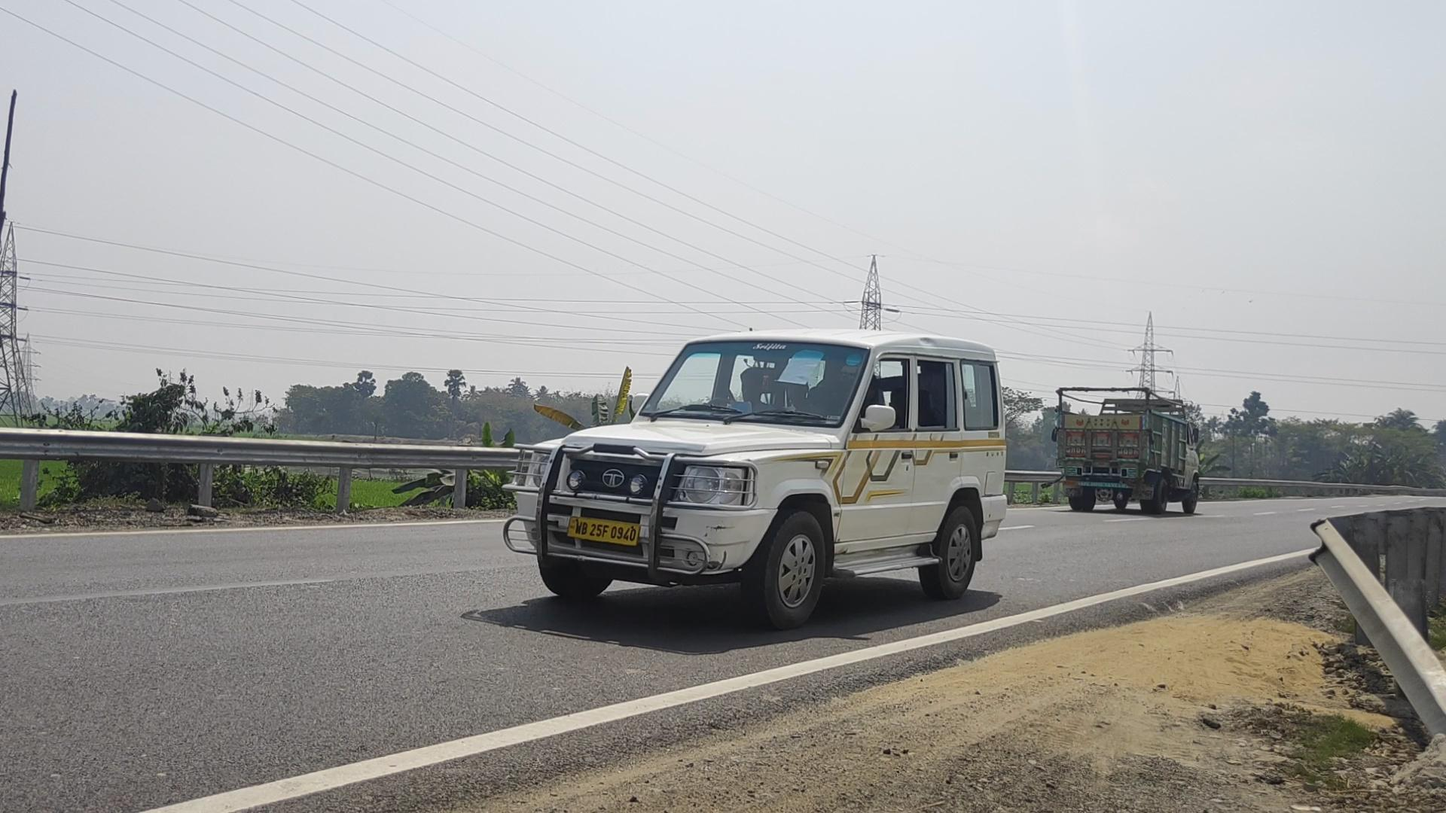car: (502, 330, 1007, 626)
truck: (1052, 386, 1200, 515)
